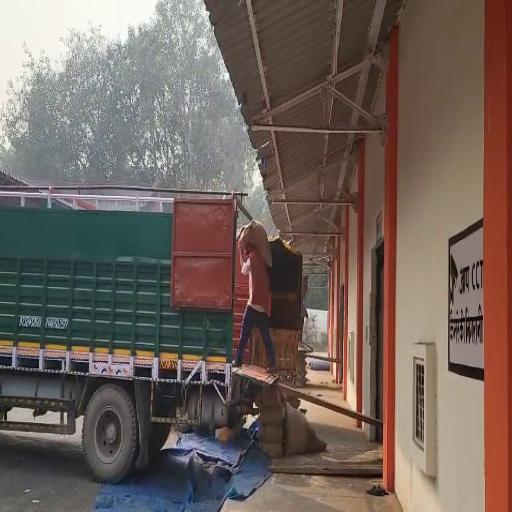bag: (240, 218, 274, 269)
